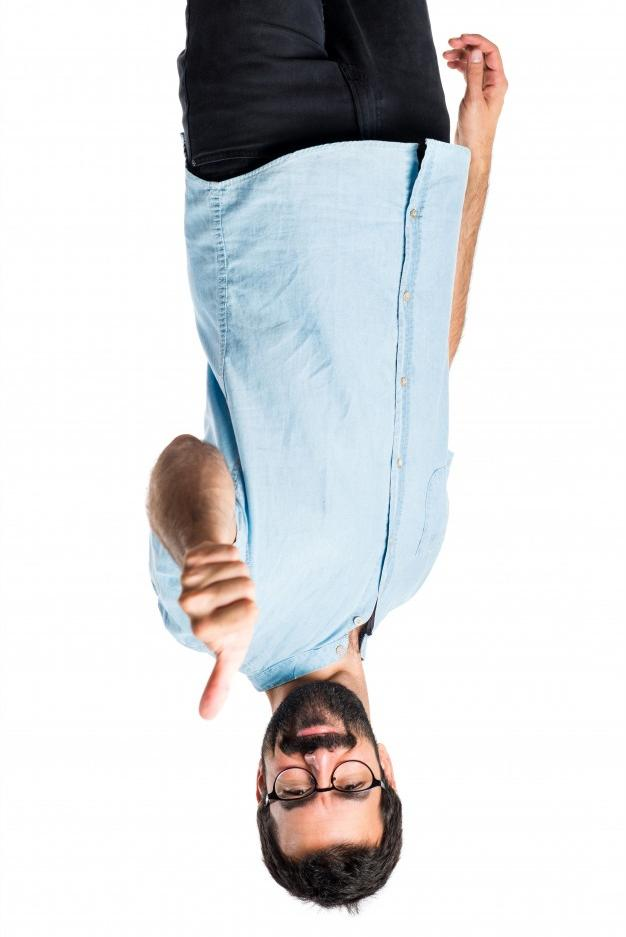thumbsdown: (178, 544, 255, 721)
